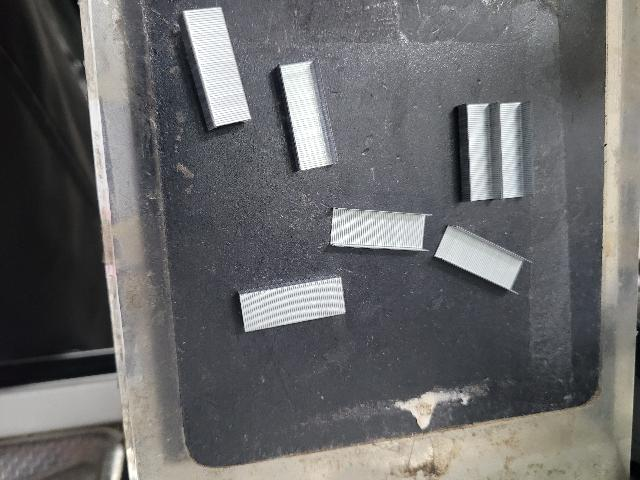Plastik: (178, 10, 263, 133)
